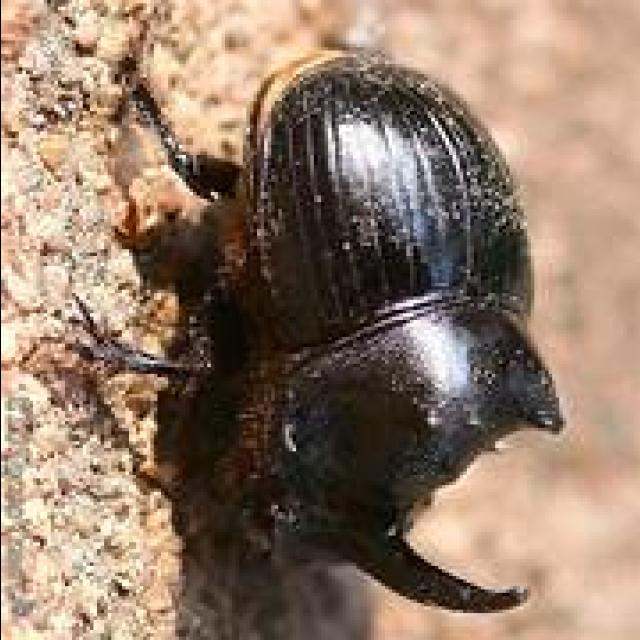Rhino-beetle: (147, 31, 589, 634)
